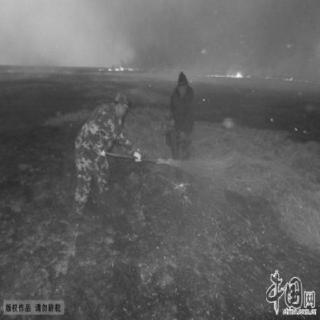Fire: (206, 64, 250, 77), (167, 170, 189, 193), (105, 64, 143, 76), (284, 73, 296, 81)
other: (167, 126, 185, 183)
